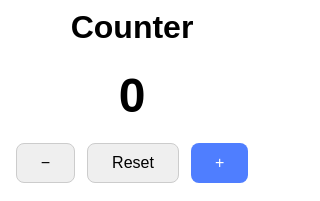
Test: Counter › can increment multiple times
Click the button with test id "increment". click: click(220, 163)
box: x1=191 y1=143 x2=248 y2=183
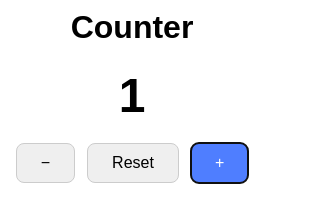
Click the button with test id "increment". click: click(220, 163)
box: x1=191 y1=143 x2=248 y2=183
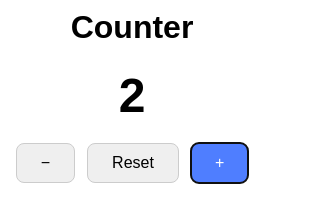
Click the button with test id "increment". click: click(220, 163)
box: x1=191 y1=143 x2=248 y2=183
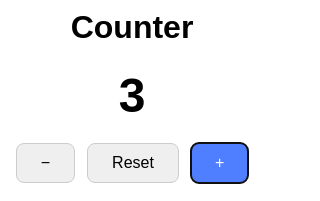
Expected: the text with test id "count" reads "3", x1=119 y1=69 x2=145 y2=122
